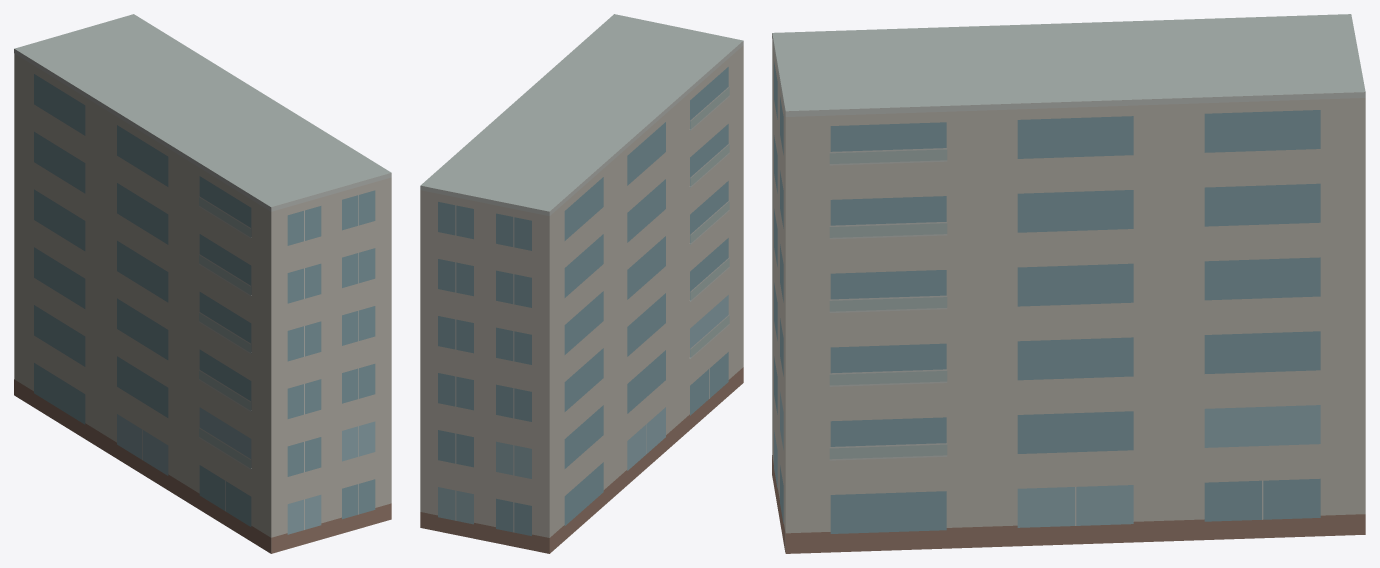
The model's file is survey-upis-32699751.glb.
3 renders of one model, left to right at view 1: azimuth 30°, elevation 25°; view 2: azimuth 150°, elevation 25°; view 3: azimuth 270°, elevation 25°, orthographic. The views are drawn at different scales.
Visible parts, largest first — view 1: survey-upis-32699751.tmp; view 2: survey-upis-32699751.tmp; view 3: survey-upis-32699751.tmp.
Boxes of the visible parts, x1,y1,x2,y2 form: survey-upis-32699751.tmp: (14,14,391,553); survey-upis-32699751.tmp: (420,14,743,553); survey-upis-32699751.tmp: (772,14,1365,553).
Bounding box in the file's own units: 8.63 × 18.3 × 22.24.
